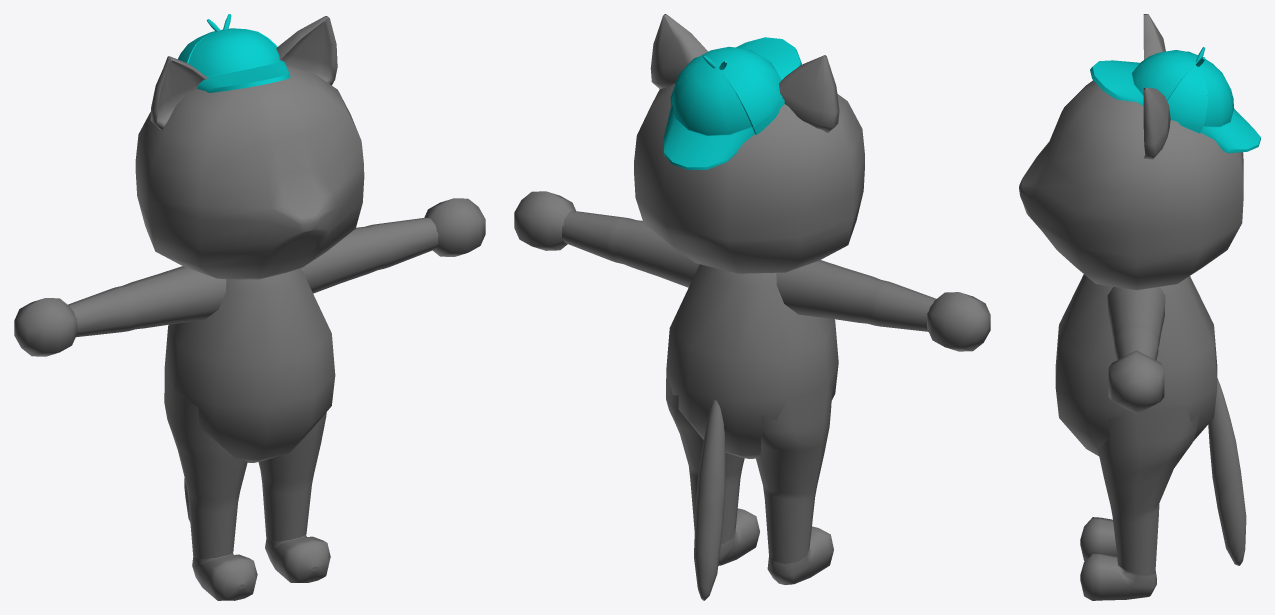
File: Cat Model.fbx
The picture shows the model from 3 angles, left to right: view 1: azimuth 30°, elevation 25°; view 2: azimuth 150°, elevation 25°; view 3: azimuth 270°, elevation 25°; orthographic projection. The views are drawn at different scales.
Visible parts, largest first — view 1: polySurface16, polySurface19, polySurface22, polySurface23, polySurface20, polySurface25, polySurface28, polySurface21, polySurface26; view 2: polySurface16, polySurface19, polySurface28, polySurface22, polySurface20, polySurface25, polySurface24, polySurface23, polySurface21, polySurface26; view 3: polySurface16, polySurface19, polySurface23, polySurface28, polySurface24, polySurface25, polySurface26, polySurface22.
Part boxes in pixels (bbox=[...]): polySurface16: bbox=[135, 16, 364, 279]; polySurface19: bbox=[164, 268, 335, 462]; polySurface22: bbox=[164, 368, 257, 600]; polySurface23: bbox=[258, 412, 330, 582]; polySurface20: bbox=[68, 266, 226, 337]; polySurface25: bbox=[300, 217, 438, 293]; polySurface28: bbox=[178, 14, 290, 92]; polySurface21: bbox=[14, 298, 77, 356]; polySurface26: bbox=[424, 198, 485, 256]; polySurface16: bbox=[634, 14, 864, 273]; polySurface19: bbox=[666, 264, 838, 458]; polySurface28: bbox=[663, 37, 801, 169]; polySurface22: bbox=[756, 383, 833, 584]; polySurface20: bbox=[776, 260, 936, 331]; polySurface25: bbox=[562, 211, 699, 287]; polySurface24: bbox=[694, 400, 725, 600]; polySurface23: bbox=[666, 371, 759, 565]; polySurface21: bbox=[927, 292, 990, 351]; polySurface26: bbox=[514, 191, 575, 250]; polySurface16: bbox=[1019, 14, 1243, 290]; polySurface19: bbox=[1055, 274, 1217, 456]; polySurface23: bbox=[1080, 406, 1200, 600]; polySurface28: bbox=[1090, 47, 1260, 153]; polySurface24: bbox=[1208, 378, 1246, 565]; polySurface25: bbox=[1107, 286, 1165, 360]; polySurface26: bbox=[1108, 350, 1164, 414]; polySurface22: bbox=[1080, 517, 1116, 561].
Bounding box in the file's own units: 7.05 × 7.73 × 3.21.
